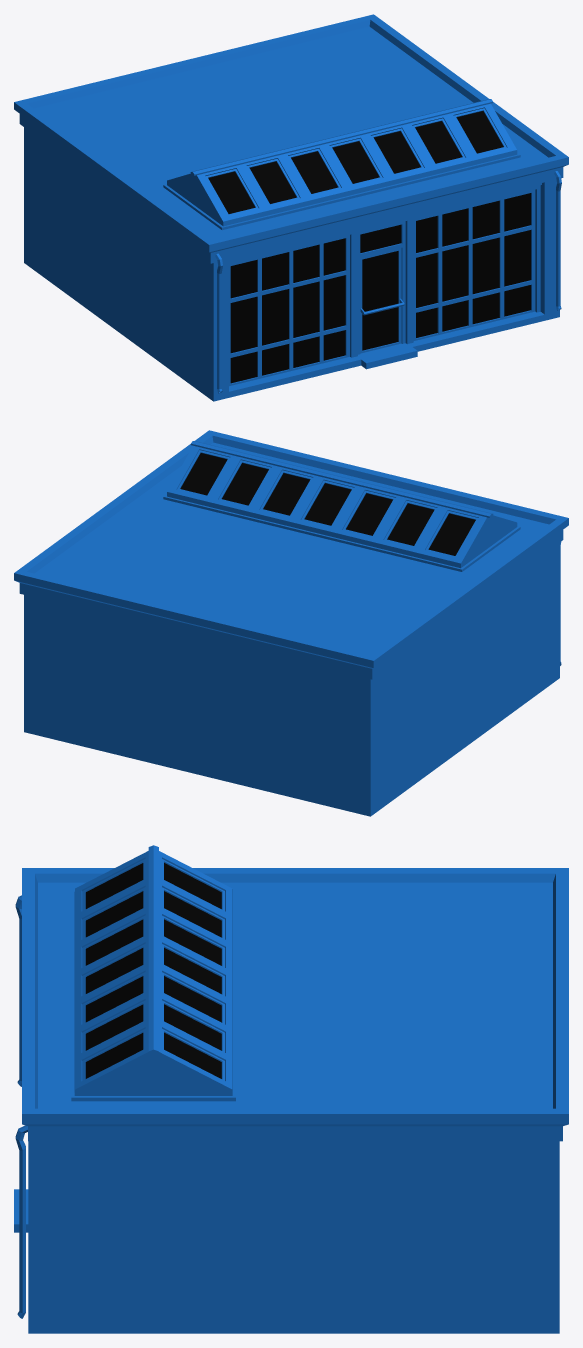
File: SM_Butcher_shop.fbx
The picture shows the model from 3 angles, top to bottom: view 1: azimuth 30°, elevation 25°; view 2: azimuth 150°, elevation 25°; view 3: azimuth 270°, elevation 25°; orthographic projection. The views are drawn at different scales.
Parts seen in each view (by area): view 1: Cloner, Cube_12, Cube_4; view 2: Cloner, Cube_12; view 3: Cloner, Cube_12.
Boxes of the visible parts, box(x1,y1,x2,y2) form: Cloner: box(14, 14, 568, 393); Cube_12: box(24, 127, 559, 401); Cube_4: box(360, 248, 404, 353); Cloner: box(14, 430, 568, 679); Cube_12: box(24, 542, 560, 816); Cloner: box(15, 845, 568, 1318); Cube_12: box(14, 1141, 559, 1333).
Size of the model in its own units: 869 by 441 by 829.
